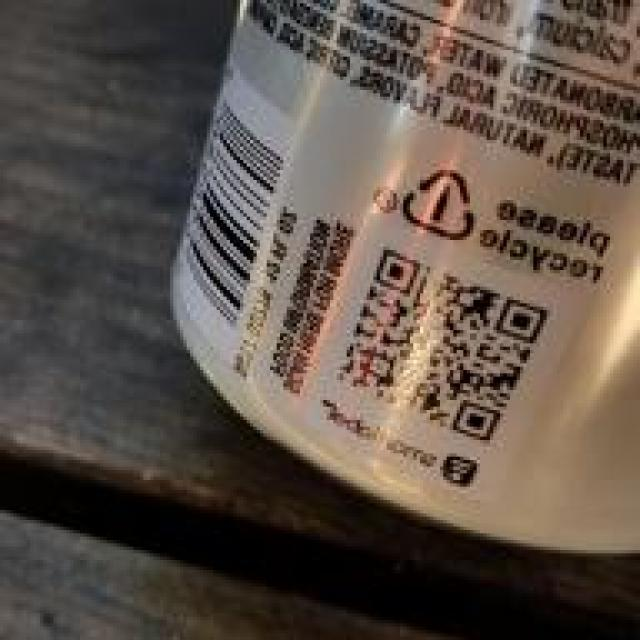QR_CODE: (322, 230, 556, 448)
